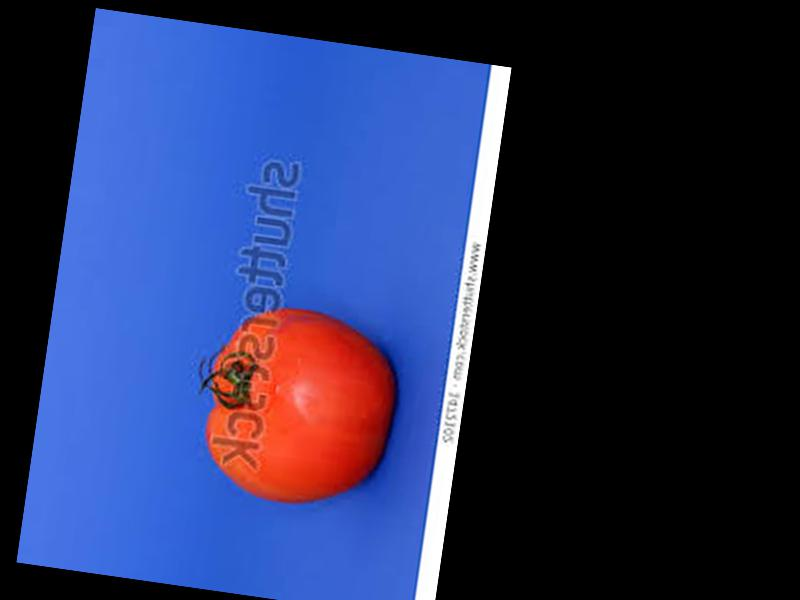Tomato: (193, 300, 402, 519)
